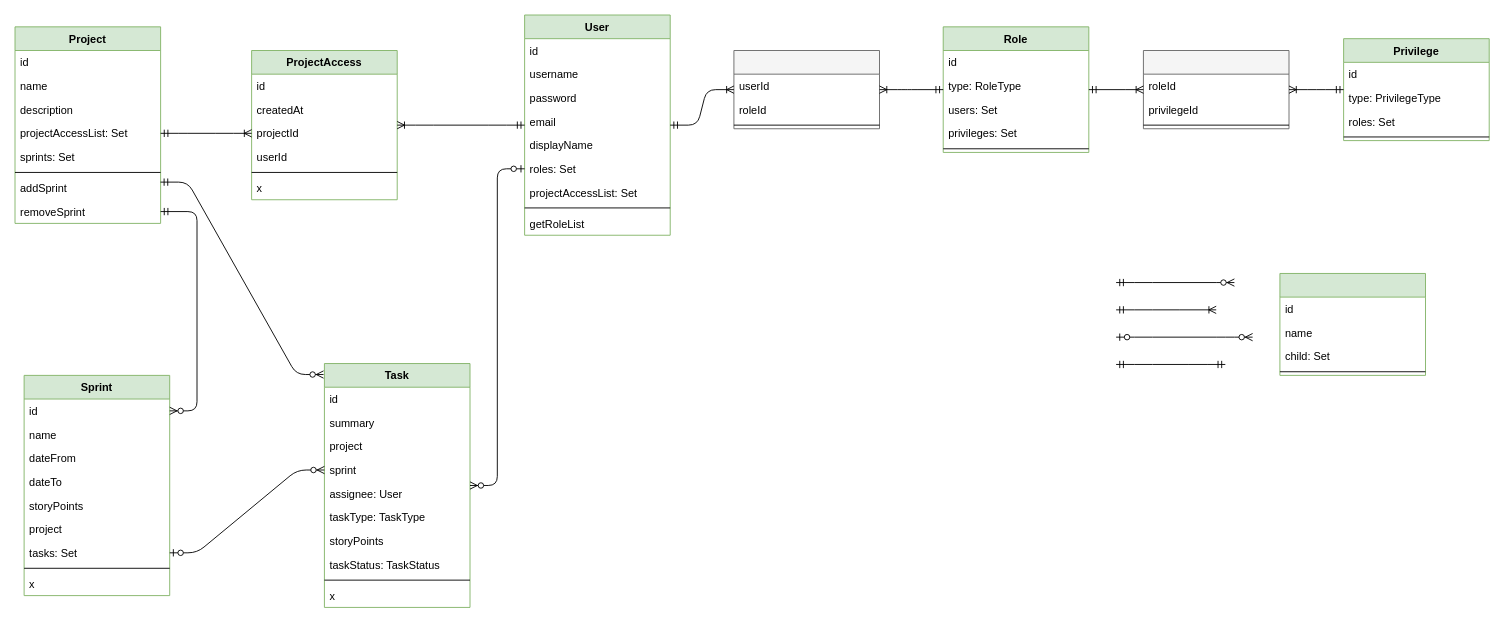
This 1504x622 diagram has some shape labels left out. Here are the shapes that lost their labels. From the top down, the box of each, then its label:
(733, 50, 880, 129): user_roles
(1143, 50, 1289, 129): roles_privileges
(1279, 273, 1426, 375): Entity
